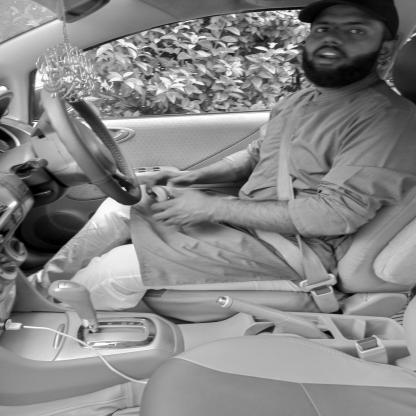seatbelt: (244, 0, 411, 197)
